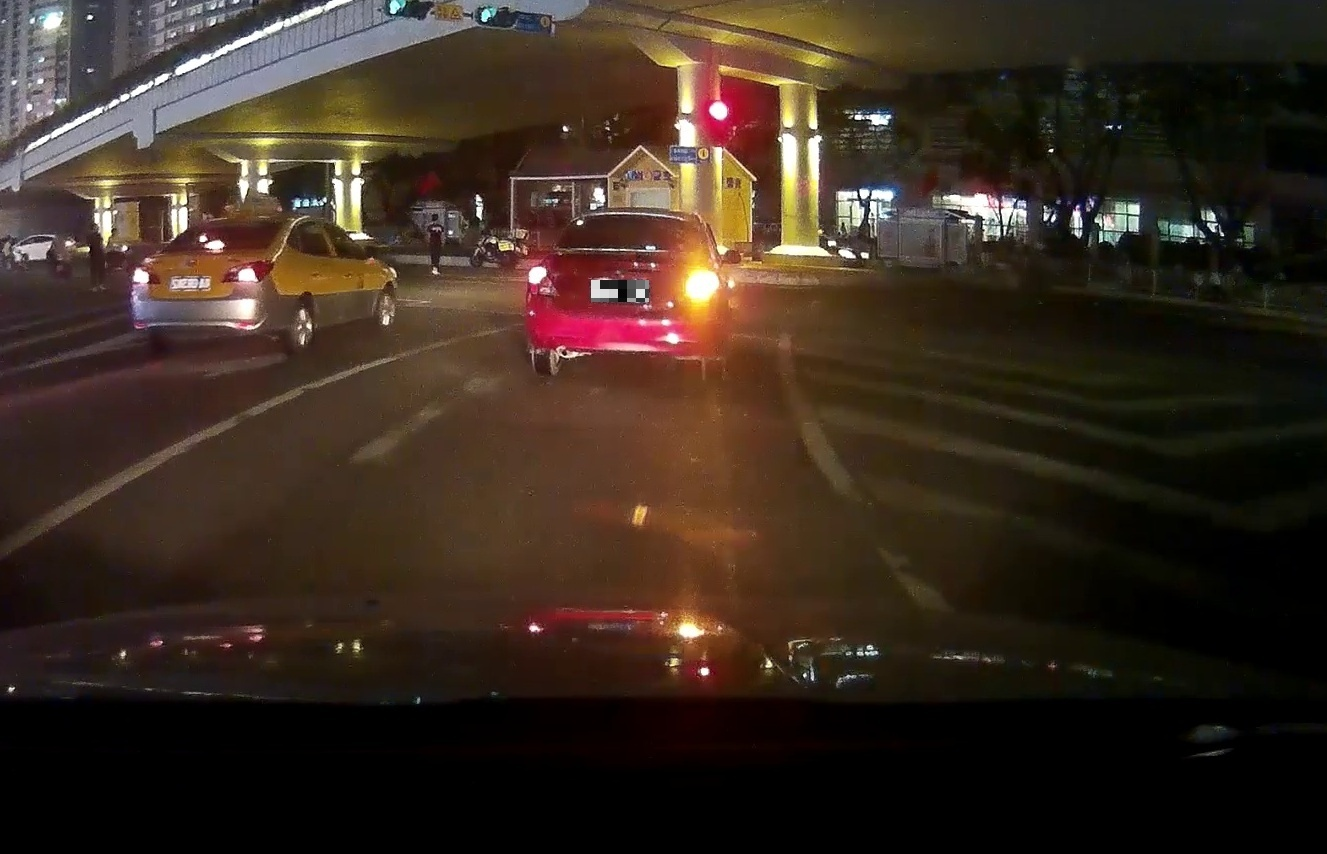L_light: (528, 266, 558, 296), (133, 265, 161, 284)
R_light: (221, 260, 275, 283), (684, 269, 720, 302)
T_light: (619, 214, 645, 221), (205, 242, 224, 249)
night-brake: (131, 214, 285, 355)
night-right: (526, 206, 725, 382)
plate_1: (591, 280, 649, 302)
